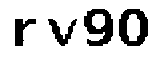0: (118, 6, 151, 52)
9: (82, 5, 114, 51)
r: (11, 16, 40, 49)
v: (47, 15, 78, 48)
